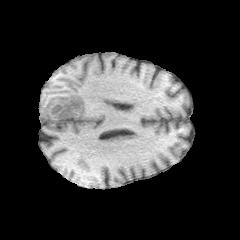glioma: (40, 94, 85, 121)
